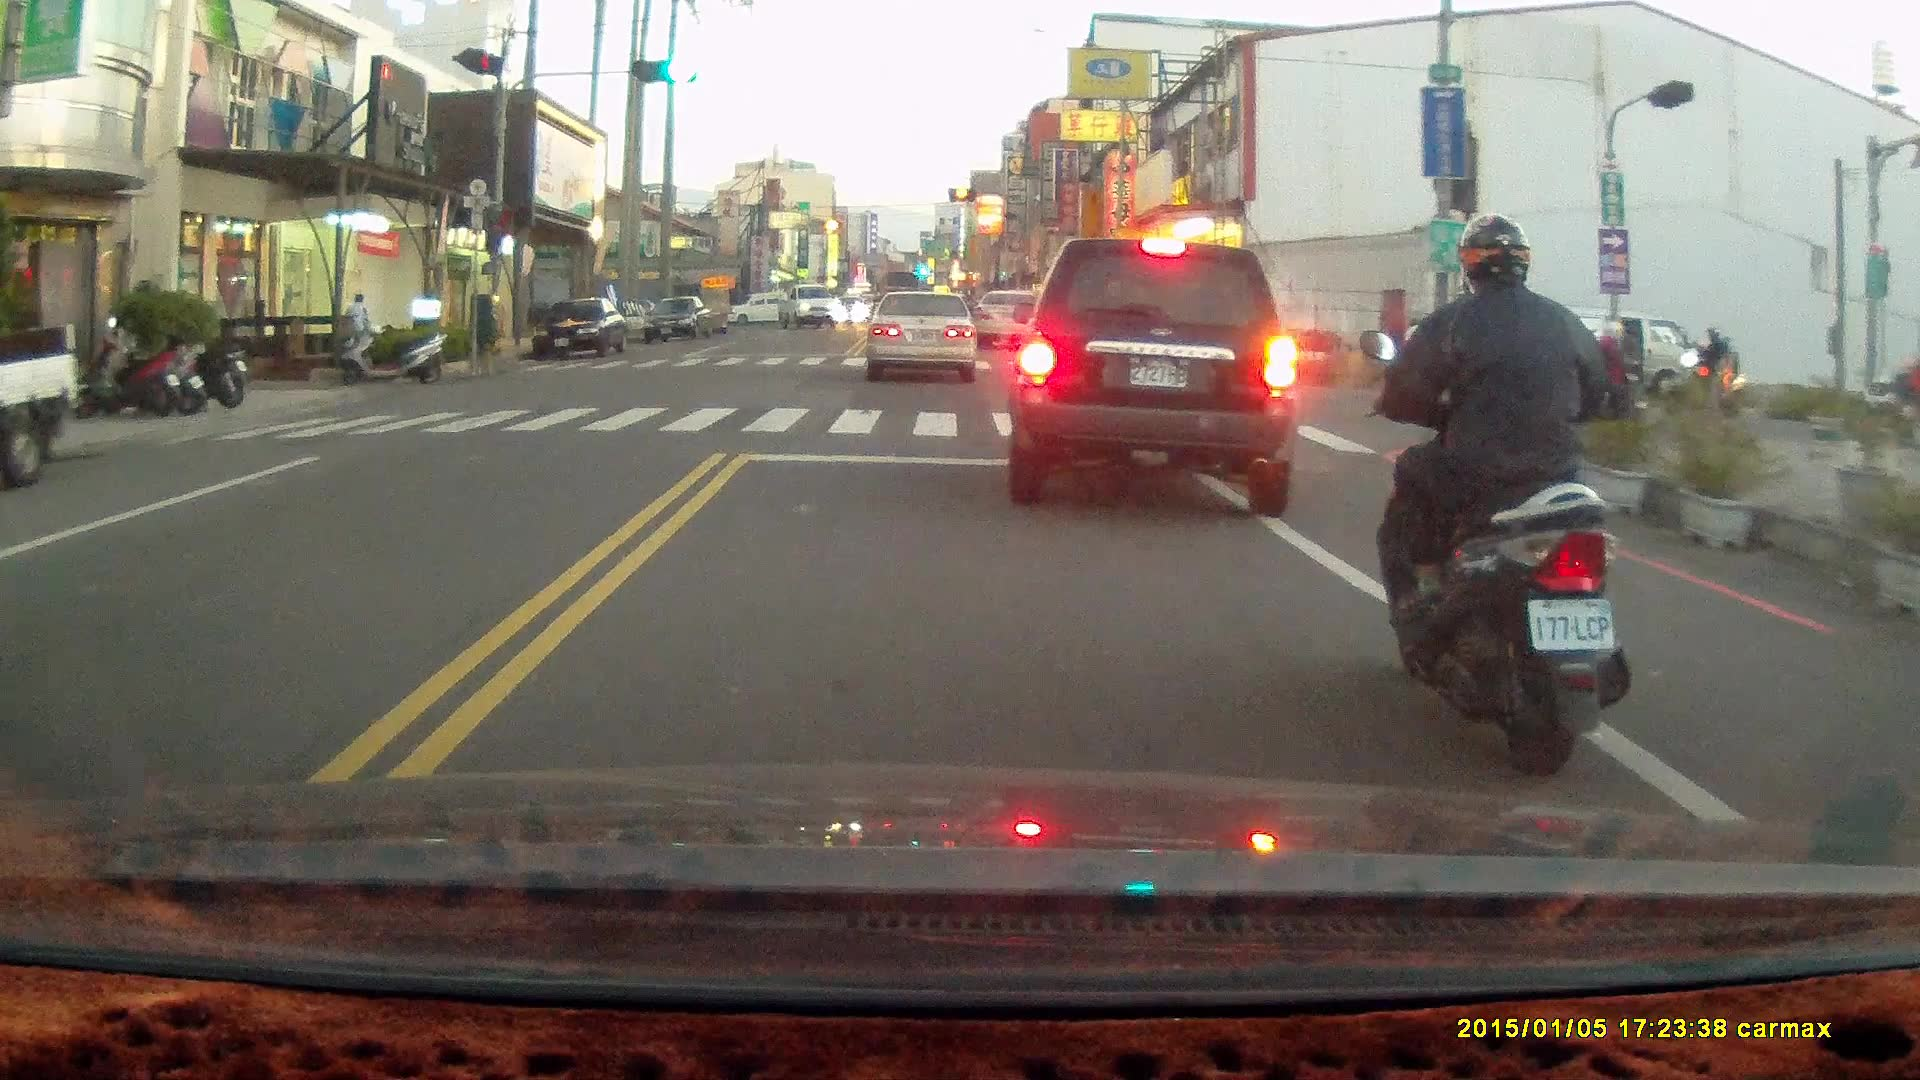pedestrian: (342, 292, 373, 359), (1617, 321, 1640, 394)
rider: (1349, 211, 1629, 776), (1564, 318, 1658, 440), (1664, 320, 1739, 416), (1871, 351, 1920, 446)
vehicle: (1008, 237, 1295, 521), (1510, 309, 1709, 409), (1, 328, 82, 494), (865, 294, 978, 390), (528, 299, 627, 361), (635, 296, 712, 344), (776, 284, 839, 334)
